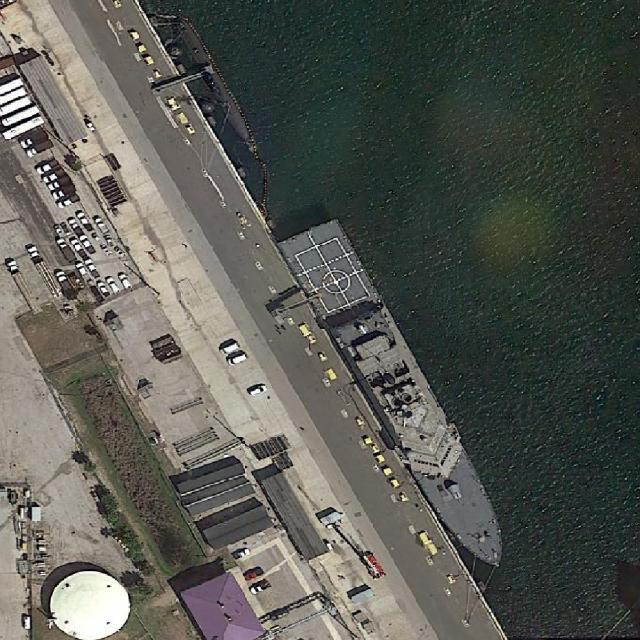Destroyer: (277, 210, 532, 584)
Submarine: (171, 8, 255, 147)
